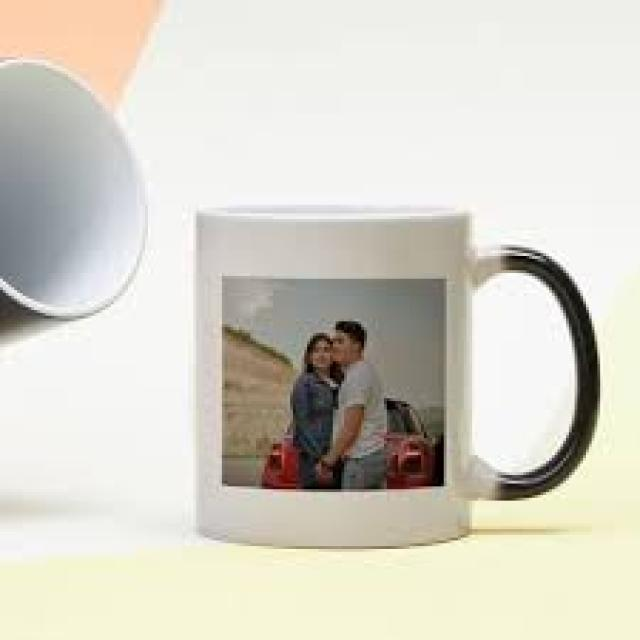taza: (193, 202, 602, 550)
